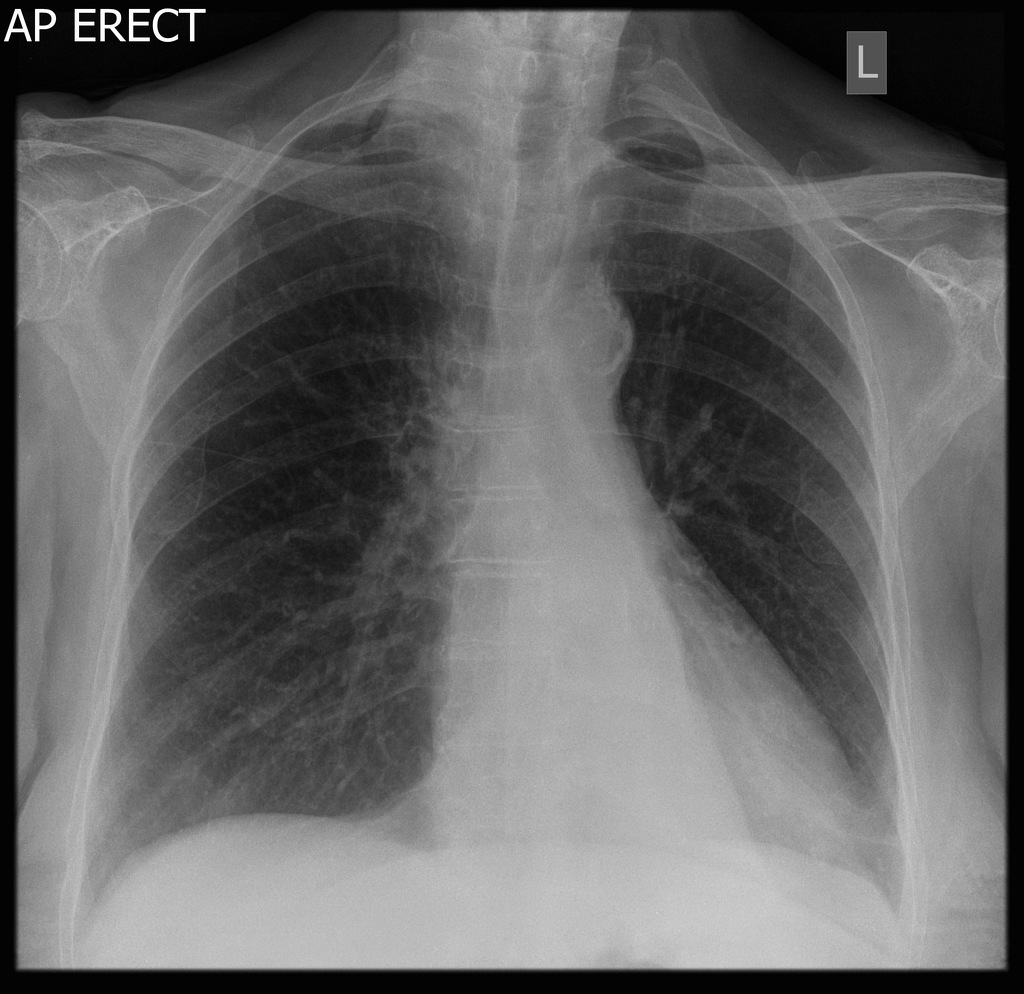cancer: (151, 188, 449, 836)
